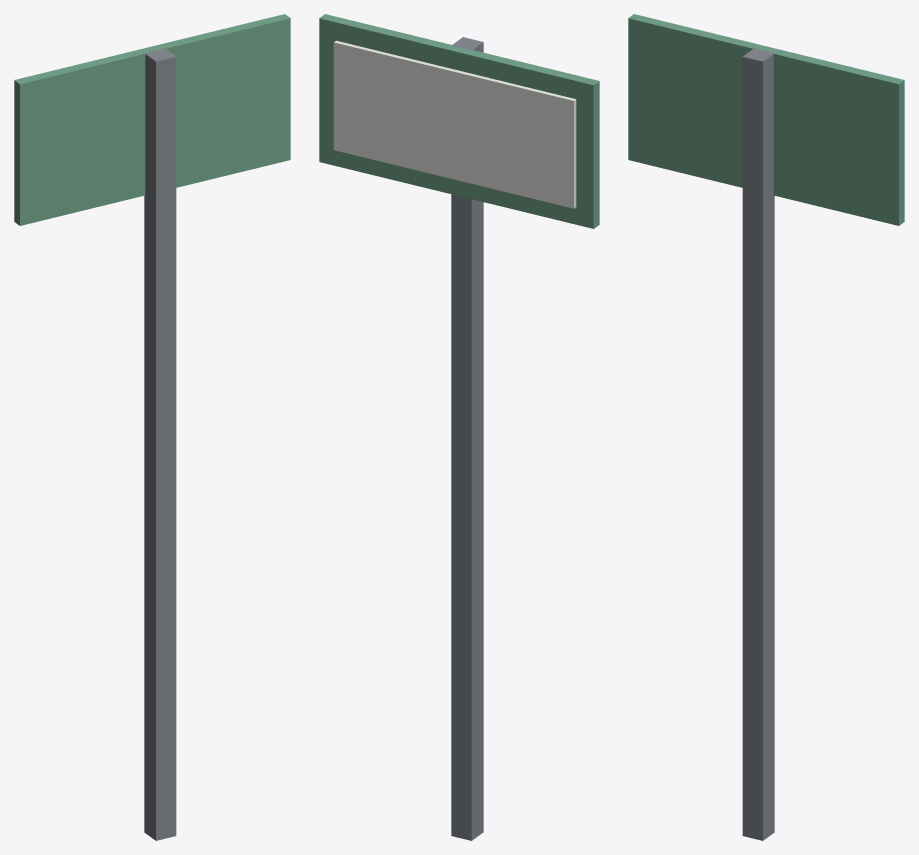
The model's file is sign_blank.glb.
The picture shows the model from 3 angles, left to right: view 1: azimuth 30°, elevation 25°; view 2: azimuth 150°, elevation 25°; view 3: azimuth 330°, elevation 25°; orthographic projection.
Visible parts, largest first — view 1: sign_face, post; view 2: sign_face, post; view 3: sign_face, post.
Part boxes in pixels (box(x1,y1,x2,y2)): sign_face: box(14, 14, 290, 225); post: box(144, 48, 176, 840); sign_face: box(319, 14, 599, 228); post: box(451, 37, 483, 840); sign_face: box(628, 14, 904, 225); post: box(742, 48, 774, 840).
Bounding box in the file's own units: 0.8 × 2.2 × 0.098.
